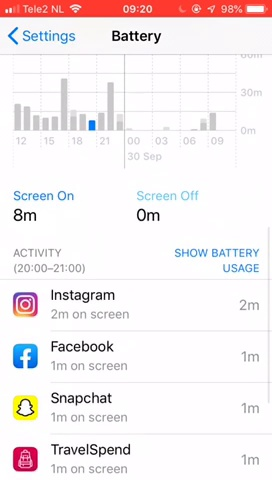activity: (10, 243, 107, 274)
app: (8, 284, 265, 321), (9, 337, 266, 374), (10, 389, 267, 426), (10, 438, 267, 475)
